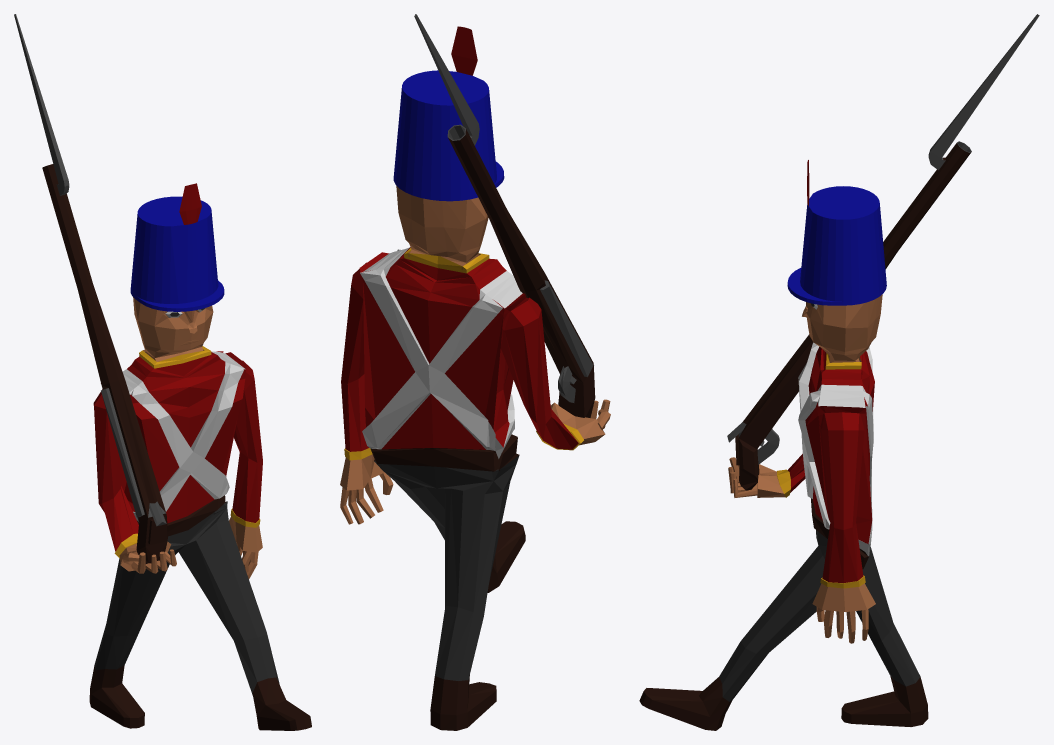
Rendered from Infantry_000107.obj.
The picture shows the model from 3 angles, left to right: view 1: azimuth 30°, elevation 25°; view 2: azimuth 150°, elevation 25°; view 3: azimuth 270°, elevation 25°; orthographic projection. The views are drawn at different scales.
Visible parts, largest first — view 1: {Man}_Circle, {Mesket}_Cube.001; view 2: {Man}_Circle, {Mesket}_Cube.001; view 3: {Man}_Circle, {Mesket}_Cube.001.
Boxes of the visible parts, x1=… form: {Man}_Circle: x1=89, y1=183, x2=311, y2=730; {Mesket}_Cube.001: x1=14, y1=14, x2=167, y2=563; {Man}_Circle: x1=340, y1=26, x2=610, y2=730; {Mesket}_Cube.001: x1=414, y1=14, x2=595, y2=417; {Man}_Circle: x1=639, y1=160, x2=928, y2=730; {Mesket}_Cube.001: x1=727, y1=14, x2=1039, y2=490.
Size of the model in its own units: 5.63 by 19.32 by 10.16.
